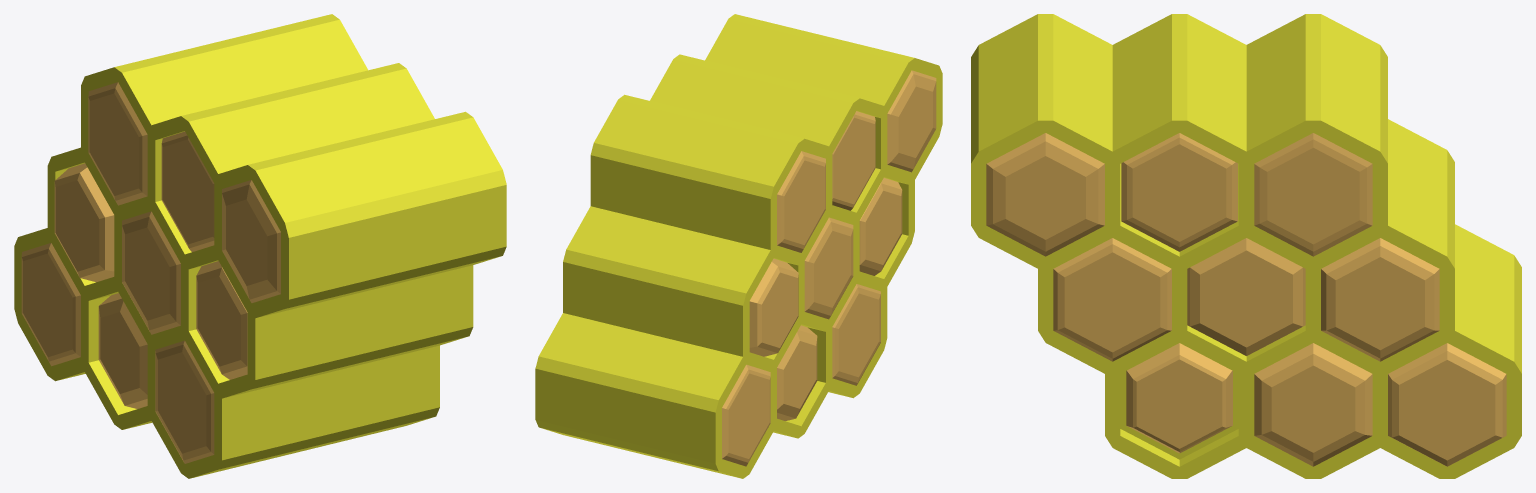
The model's file is honeycomb3_3.fbx.
3 views of the same model, side by side, from view 1: azimuth 30°, elevation 25°; view 2: azimuth 150°, elevation 25°; view 3: azimuth 270°, elevation 25° (orthographic). The views are drawn at different scales.
Parts seen in each view (by area): view 1: HoneyComb3*3; view 2: HoneyComb3*3; view 3: HoneyComb3*3.
Part boxes in pixels (x1,y1,x2,y2): HoneyComb3*3: [14, 14, 506, 478]; HoneyComb3*3: [535, 14, 942, 478]; HoneyComb3*3: [971, 14, 1521, 478].
Bounding box in the file's own units: 1769 × 2558 × 3564.
